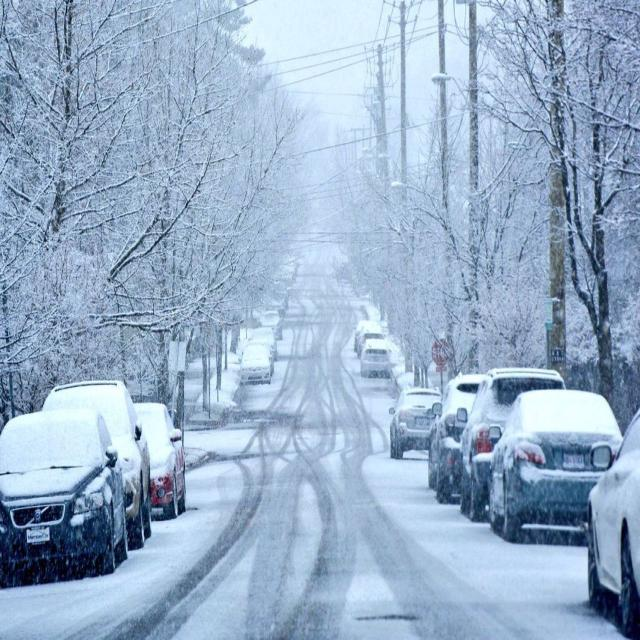car: (14, 398, 133, 576), (489, 396, 621, 549), (45, 381, 149, 550), (460, 368, 558, 512), (592, 407, 636, 623), (428, 375, 488, 499), (134, 402, 186, 516), (390, 390, 442, 460), (361, 336, 396, 378), (239, 342, 273, 385), (354, 324, 388, 363), (253, 328, 277, 354), (263, 309, 281, 335)
